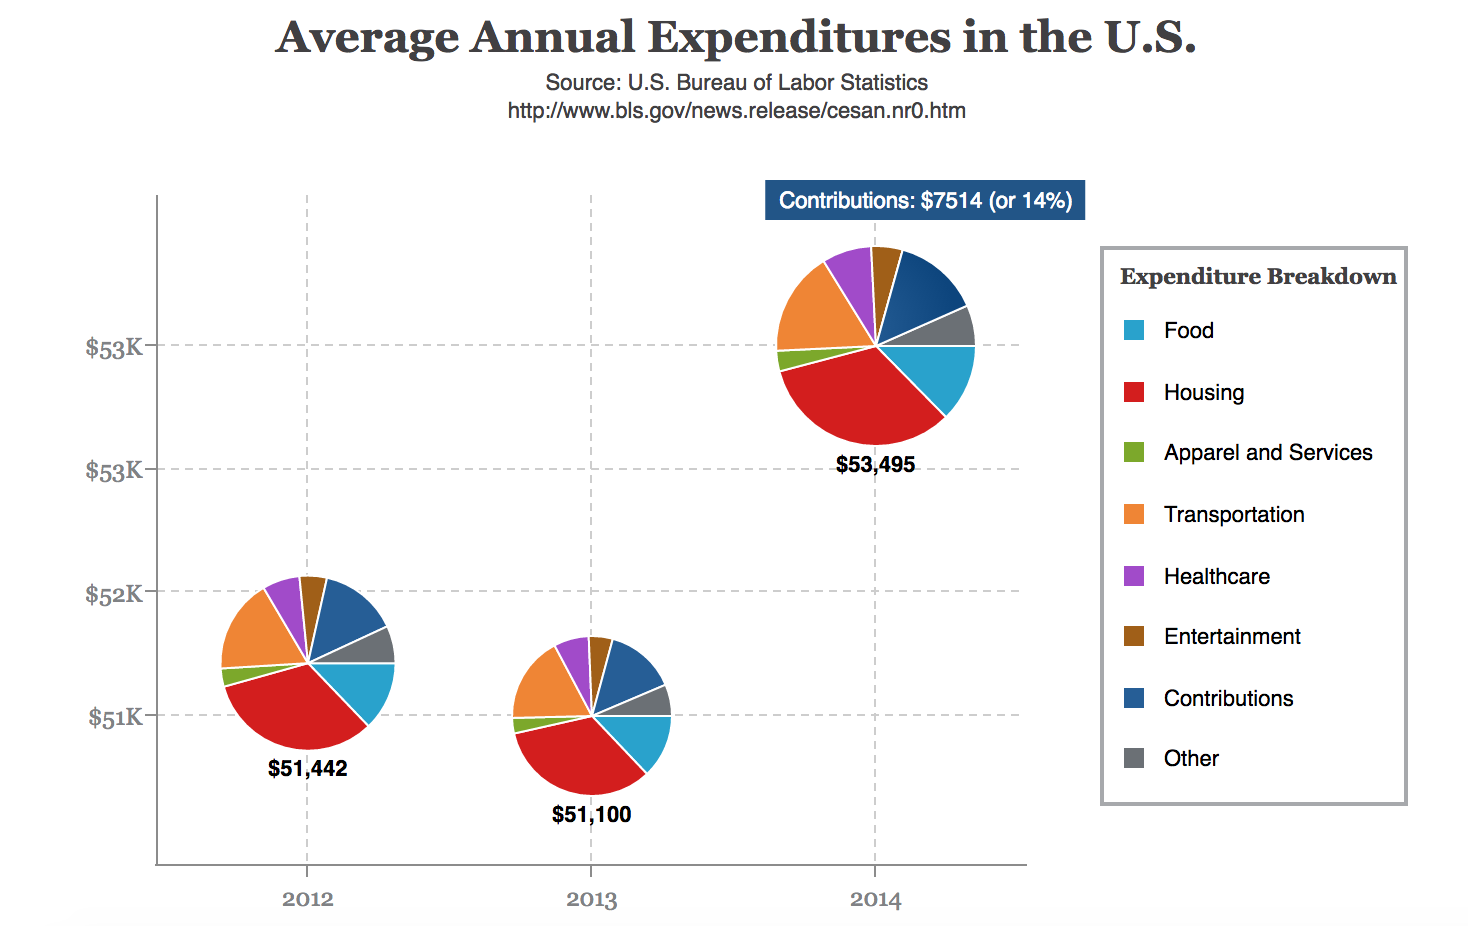

This screenshot's page, from the dashboard's own definition file:
{"tool":"tableau","page":{"name":"Dashboard 1","canvas":[1000,800],"ordinal":0},"visuals":[{"type":"worksheet","title":"Sheet 1","mark":"Circle","rows":["MPG"],"cols":["Weight"],"box":[0,0,840,800]},{"type":"legend","title":"Sheet 1","param":"[textscan.14h8h6g1ua10101g5851s1sy8clt].[none:Manufacturer:nk]","box":[840,0,160,134]},{"type":"legend","title":"Sheet 1","param":"[textscan.14h8h6g1ua10101g5851s1sy8clt].[none:Weight:qk]","box":[840,134,160,110]}]}

Visuals, with their boxes on the page's 1000x800 design canvas (x1, y1, x2, y2). These are canvas units, not pixel positions in the 1468x926 screenshot, which may show the page scaled, cropped or inside an application window:
"Sheet 1" worksheet (Circle marks): region(0, 0, 840, 800)
"Sheet 1" legend: region(840, 0, 1000, 134)
"Sheet 1" legend: region(840, 134, 1000, 244)
